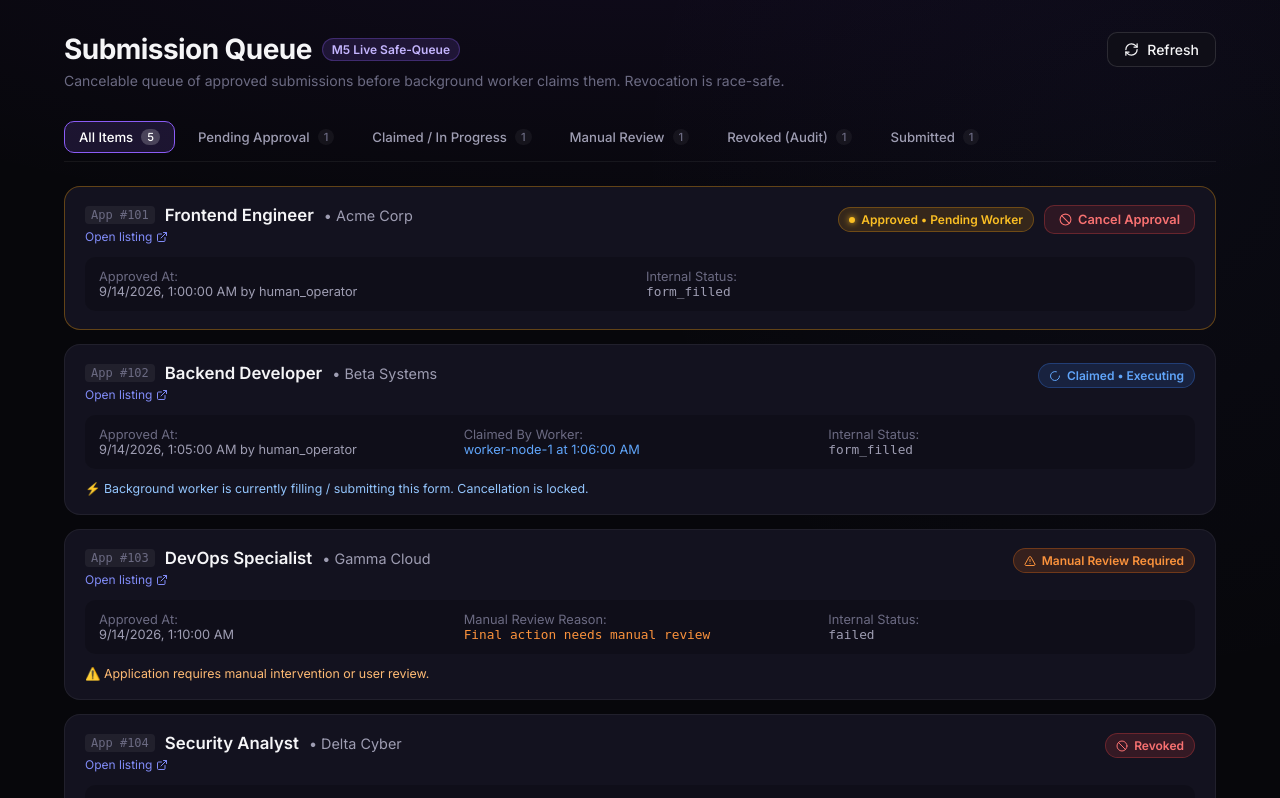
Scenario: SubmissionQueuePage › 7. Successful cancellation refreshes server state
Expected: the heading "Frontend Engineer" is shown, [165,205,314,225]
Click the button "Cancel Approval".
click(1120, 220)  # box [1044,205,1195,234]
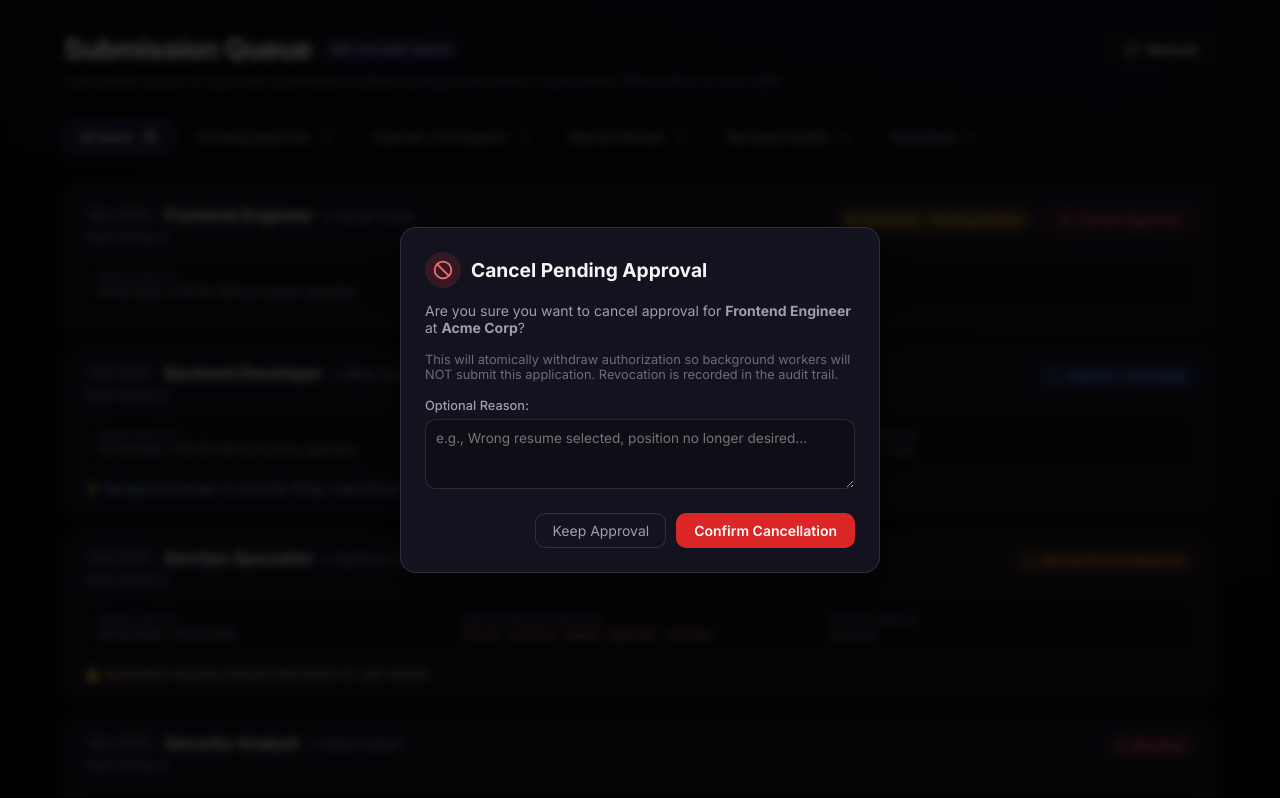
Type "Wrong resume" into the text box with placeholder "e.g., Wrong resume selected, position no longer desired...".
click(640, 454); type("Wrong resume")  # box [425,419,855,489]
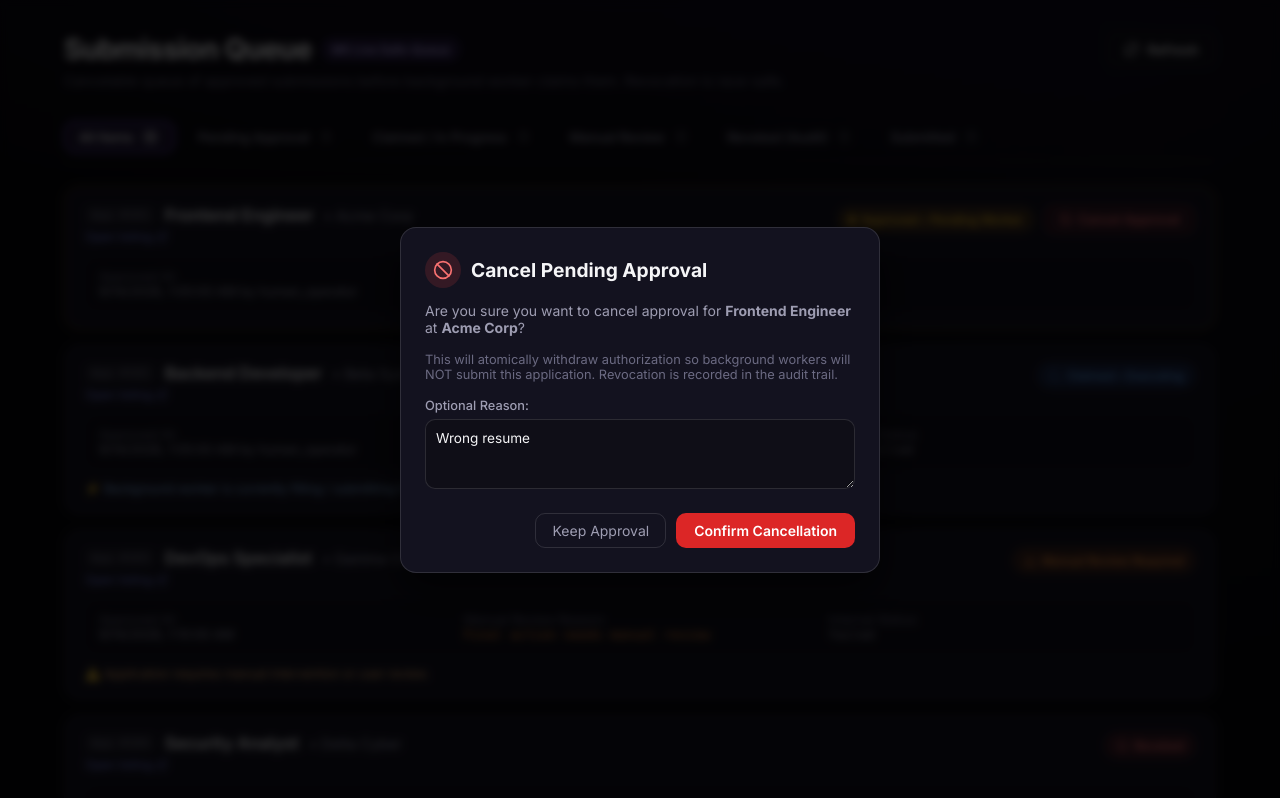
Click the button "Confirm Cancellation".
click(766, 530)  # box [676,513,855,548]
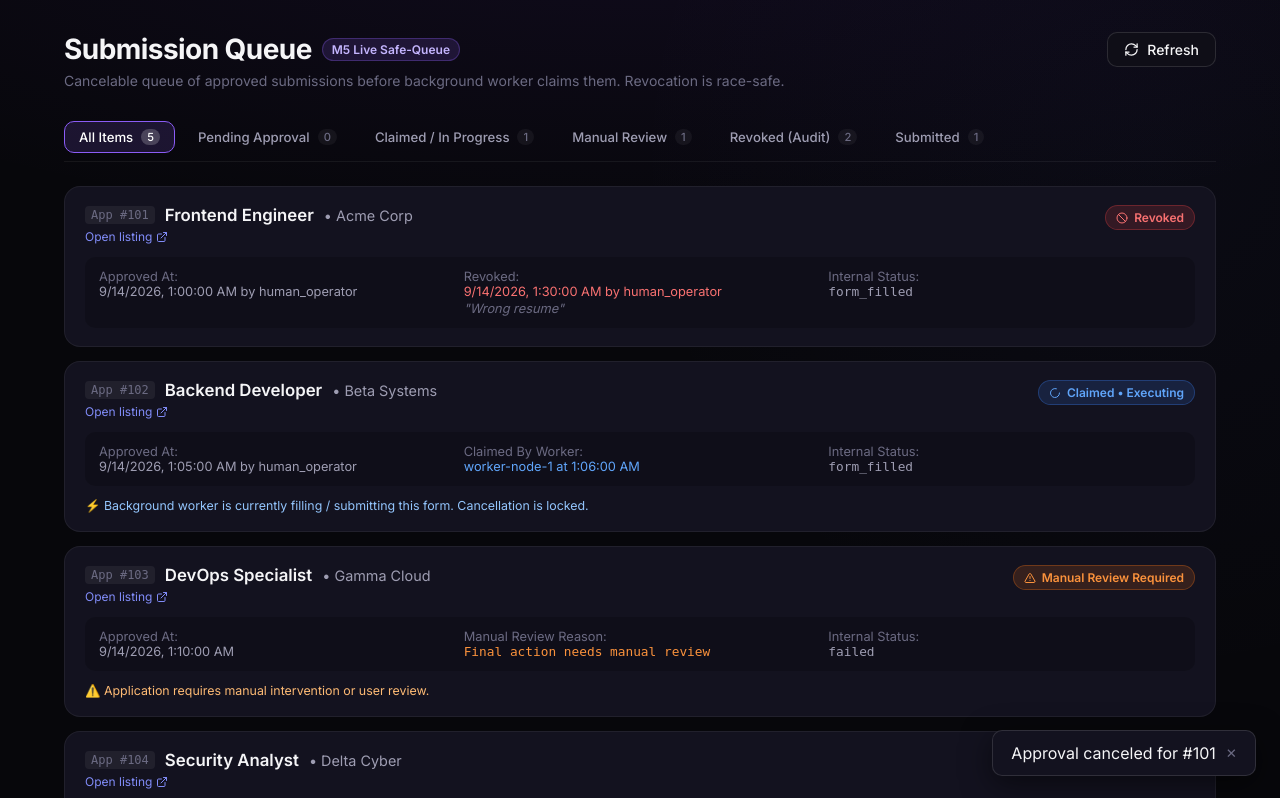
Expected: the heading "Cancel Pending Approval" is gone
